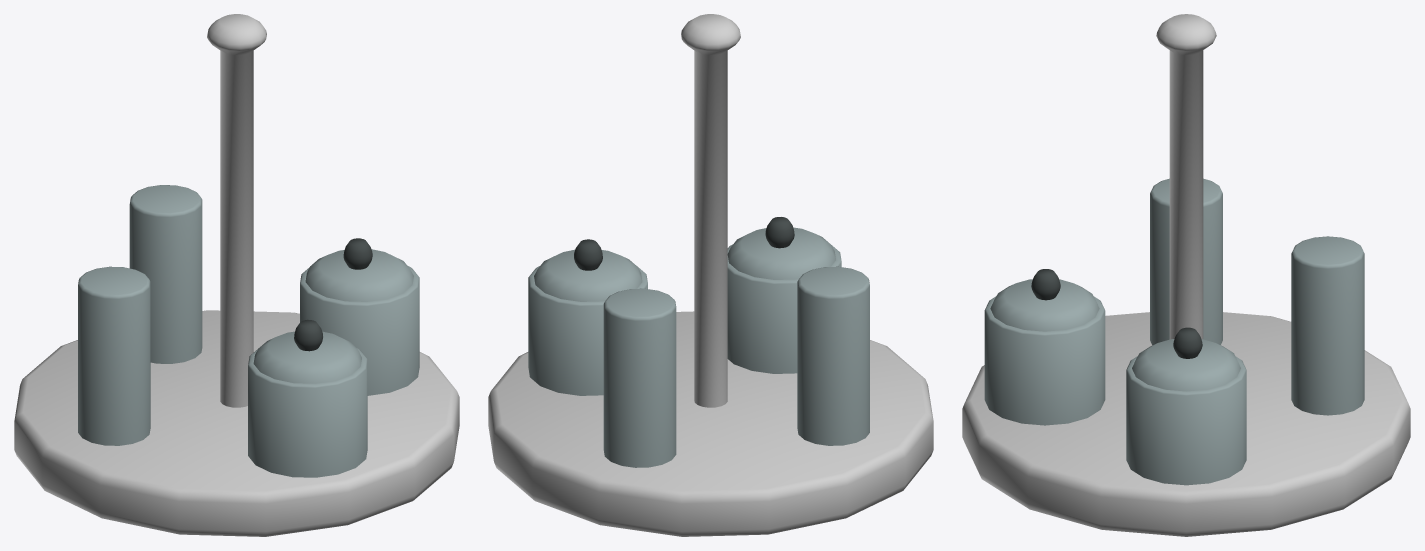
The model's file is Salt-Spice.fbx.
The picture shows the model from 3 angles, left to right: view 1: azimuth 30°, elevation 25°; view 2: azimuth 150°, elevation 25°; view 3: azimuth 270°, elevation 25°; orthographic projection.
Visible parts, largest first — view 1: Salt-Spice; view 2: Salt-Spice; view 3: Salt-Spice.
Part boxes in pixels (bbox=[...]): Salt-Spice: bbox=[14, 14, 459, 536]; Salt-Spice: bbox=[488, 14, 933, 536]; Salt-Spice: bbox=[962, 14, 1410, 536].
Bounding box in the file's own units: 0.1779 × 0.1857 × 0.1779.
